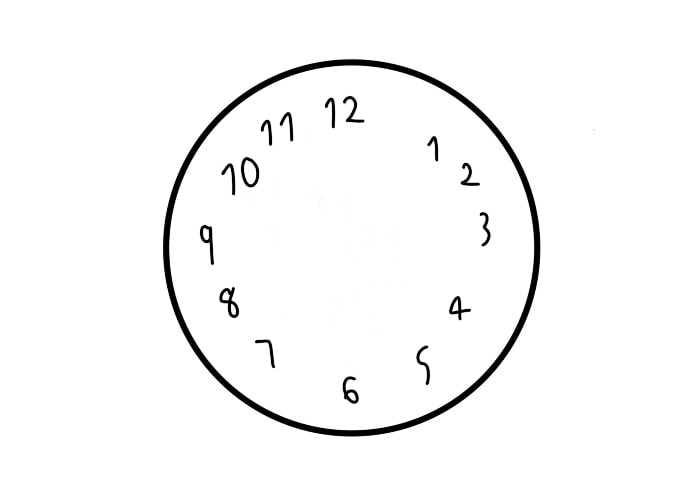eight: (214, 283, 240, 320)
eleven: (256, 112, 297, 147)
five: (411, 344, 435, 388)
four: (445, 293, 474, 324)
nine: (198, 219, 217, 272)
one: (423, 132, 442, 163)
seven: (253, 336, 278, 369)
six: (340, 370, 363, 408)
ten: (221, 155, 262, 197)
three: (477, 206, 493, 250)
twelve: (320, 93, 364, 130)
two: (458, 160, 480, 189)
